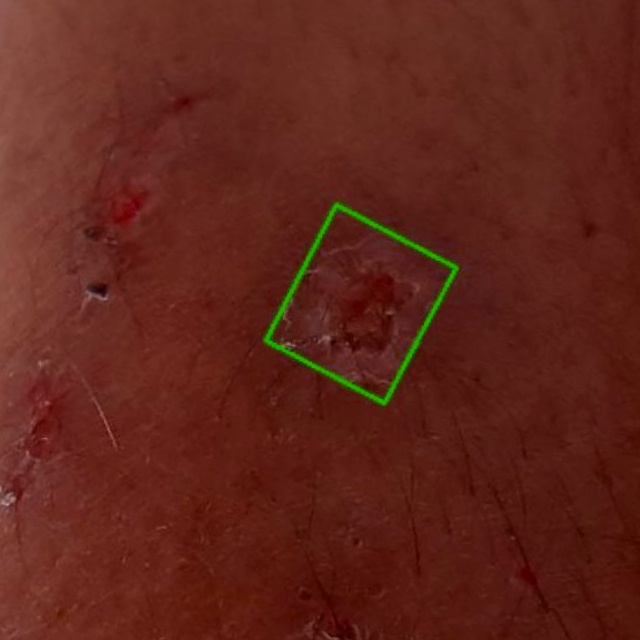Eczema: (266, 204, 456, 403)
